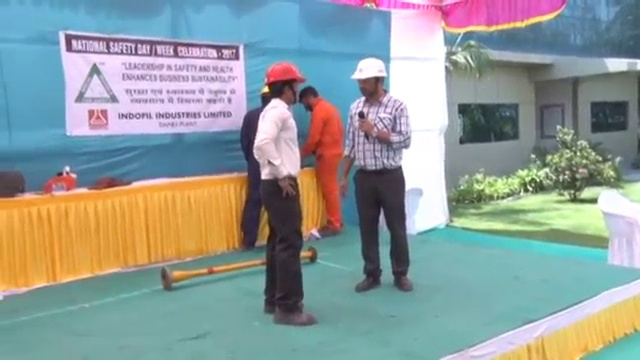helmet: (261, 59, 309, 85), (350, 54, 389, 80)
helmet_off: (297, 84, 324, 112)
helmet_on: (259, 57, 310, 109), (349, 53, 390, 100)
person: (339, 53, 416, 292), (253, 58, 318, 329), (296, 83, 344, 235), (239, 82, 274, 250)
